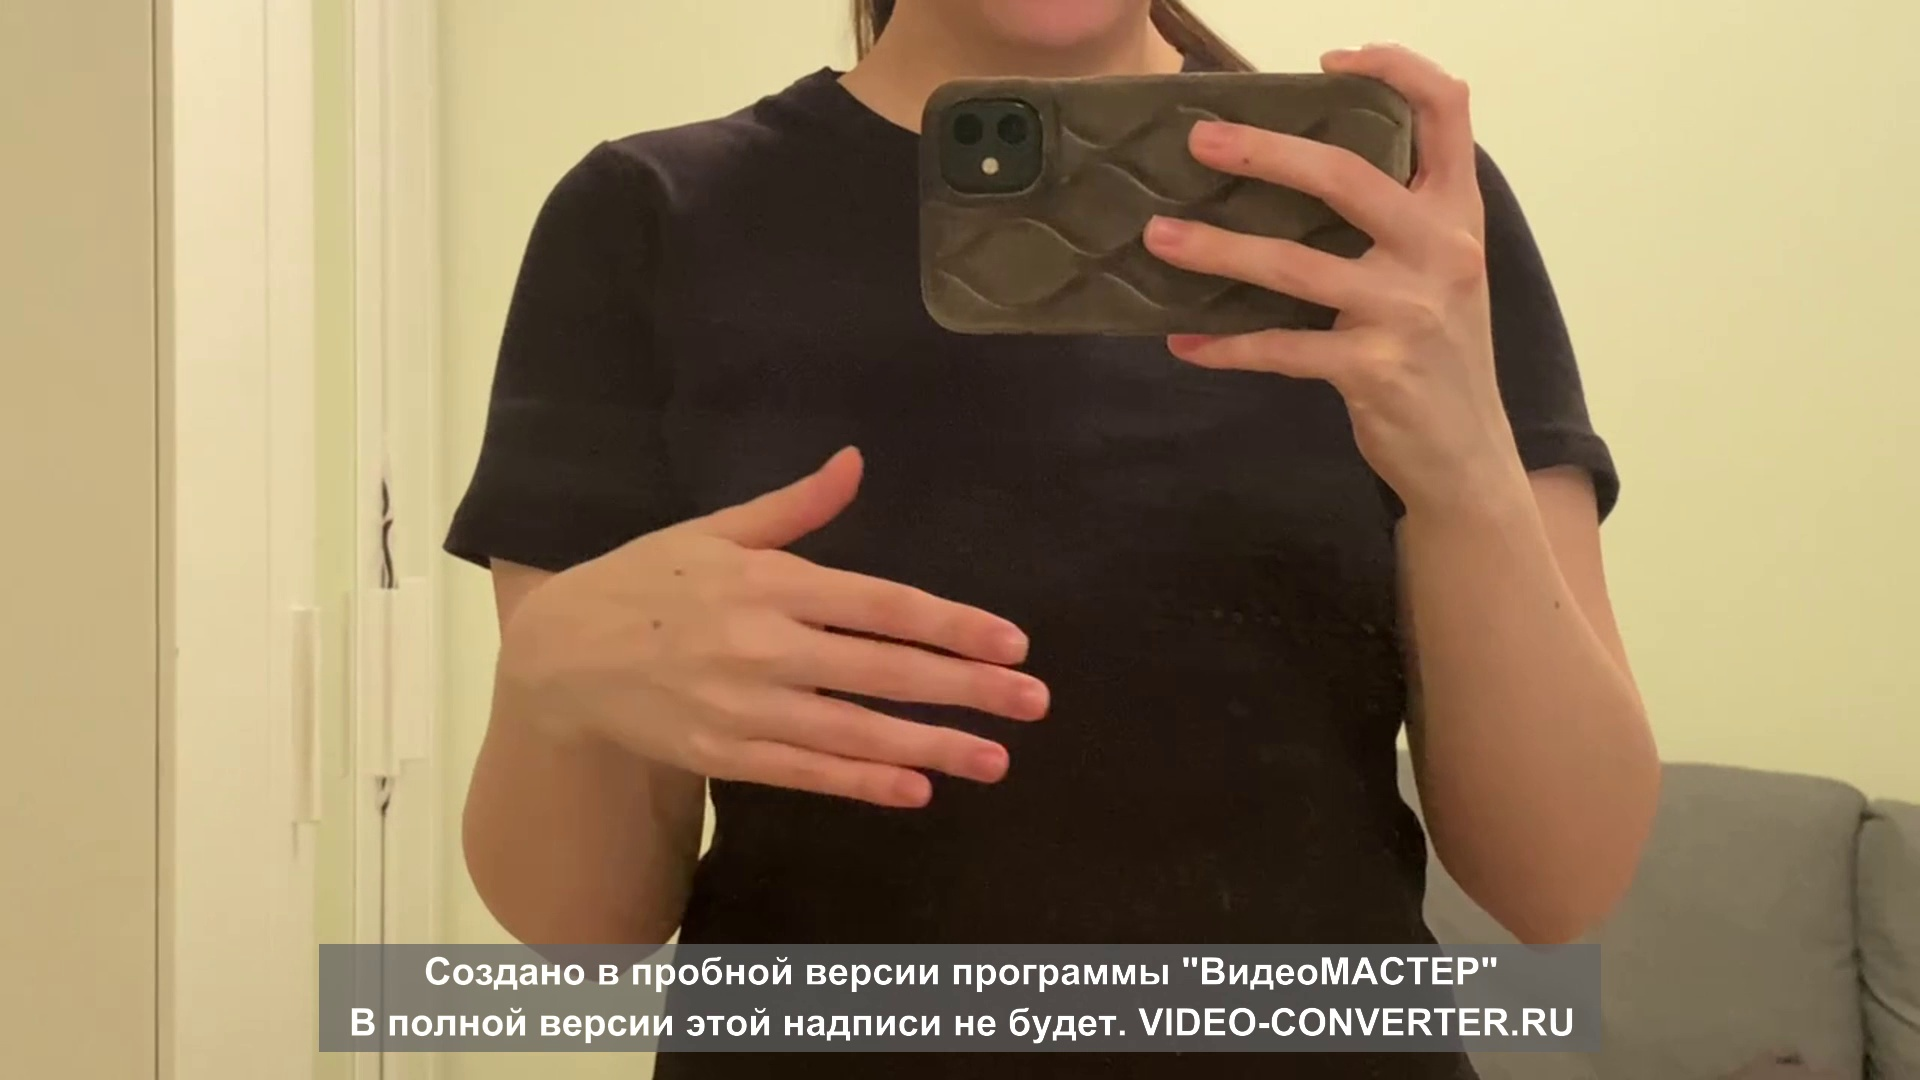Кисть: (512, 447, 1052, 806)
